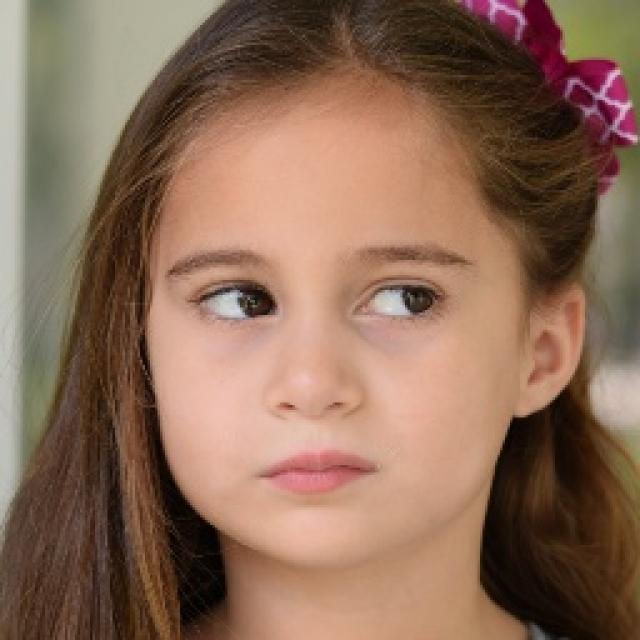earlobe: (511, 380, 551, 420)
eye: (358, 278, 440, 320), (192, 283, 279, 322)
nose: (268, 404, 360, 441)
wholeear: (511, 278, 587, 420)
